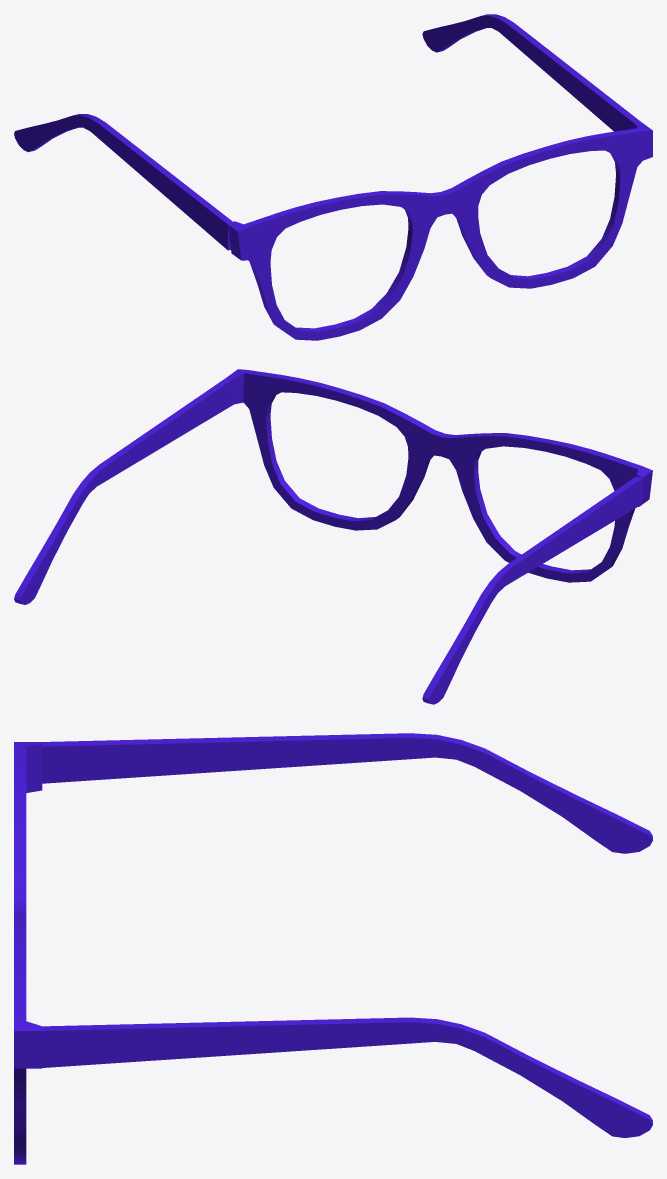
File: glasses.fbx
The picture shows the model from 3 angles, top to bottom: view 1: azimuth 30°, elevation 25°; view 2: azimuth 150°, elevation 25°; view 3: azimuth 270°, elevation 25°; orthographic projection. The views are drawn at different scales.
Parts seen in each view (by area): view 1: glasses_01; view 2: glasses_01; view 3: glasses_01.
Part boxes in pixels (x1,y1,x2,y2): glasses_01: (14, 14, 652, 340); glasses_01: (14, 369, 652, 704); glasses_01: (14, 733, 652, 1164).
Bounding box in the file's own units: 14.96 × 4.69 × 13.98.
